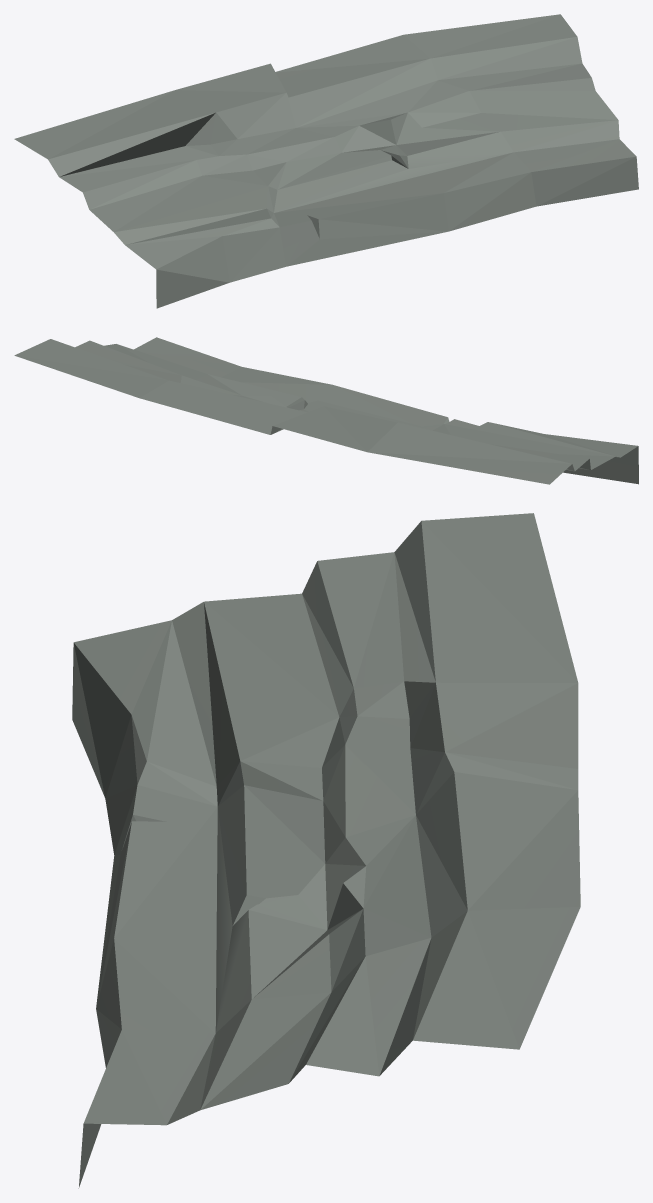
Rendered from ZLP_Stairs_A_12.FBX.
3 renders of one model, top to bottom at view 1: azimuth 30°, elevation 25°; view 2: azimuth 150°, elevation 25°; view 3: azimuth 270°, elevation 25°, orthographic. The views are drawn at different scales.
Visible parts, largest first — view 1: ZLP_Stairs_A_12; view 2: ZLP_Stairs_A_12; view 3: ZLP_Stairs_A_12.
Part boxes in pixels (x1,y1,x2,y2): ZLP_Stairs_A_12: [14, 14, 638, 308]; ZLP_Stairs_A_12: [14, 337, 638, 484]; ZLP_Stairs_A_12: [72, 513, 580, 1188].
Bounding box in the file's own units: 518 × 84.82 × 212.
